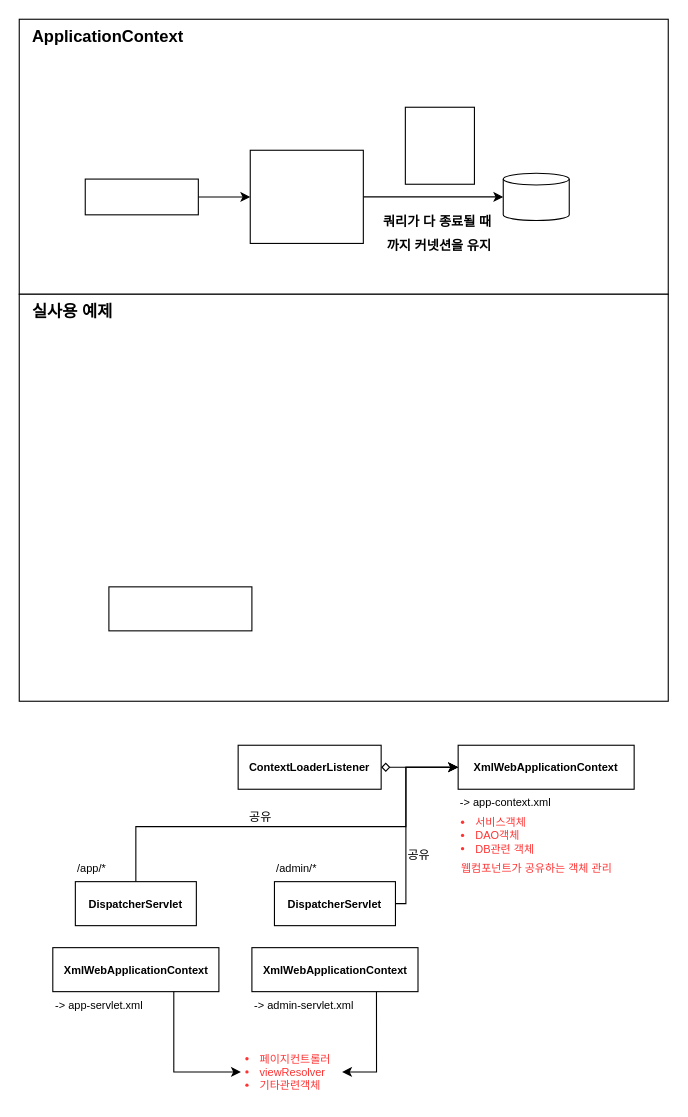
This 688x1117 diagram has some shape labels left out. Each missing label, with the centre of its shape:
Data Base: the point at 535,196
ex) Query1 Query2 Query3 Query4: the point at 439,145
« server » view controller service resolver: the point at 306,196
«client» client: the point at 141,196
